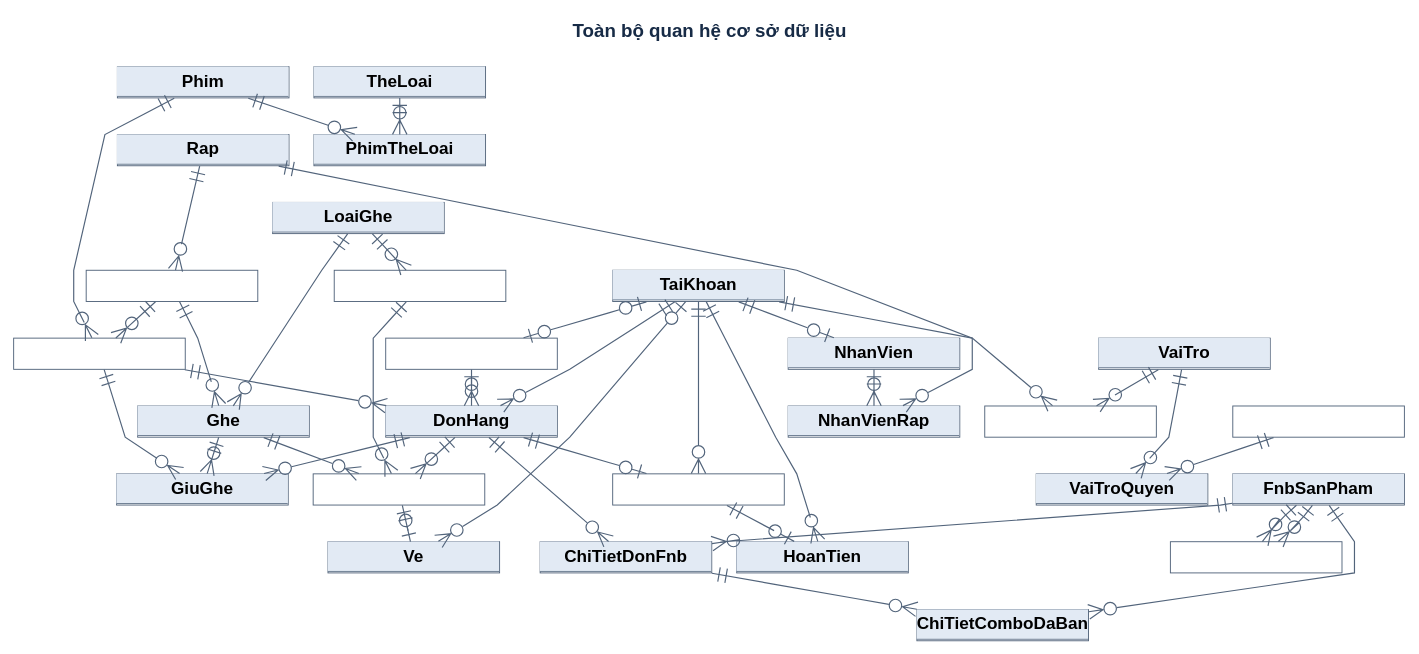
Some shapes in this 1419 by 654 pixel diagram are drawn without their labels. Each missing label, with the centre of its shape:
ChiTietVe: (398,489)
FnbComboChiTiet: (1256,557)
GiaVe: (419,285)
KhachHang: (471,353)
PhongChieu: (171,285)
Quyen: (1318,421)
SuatChieu: (99,353)
TaiKhoanVaiTro: (1070,421)
ThanhToan: (698,489)
